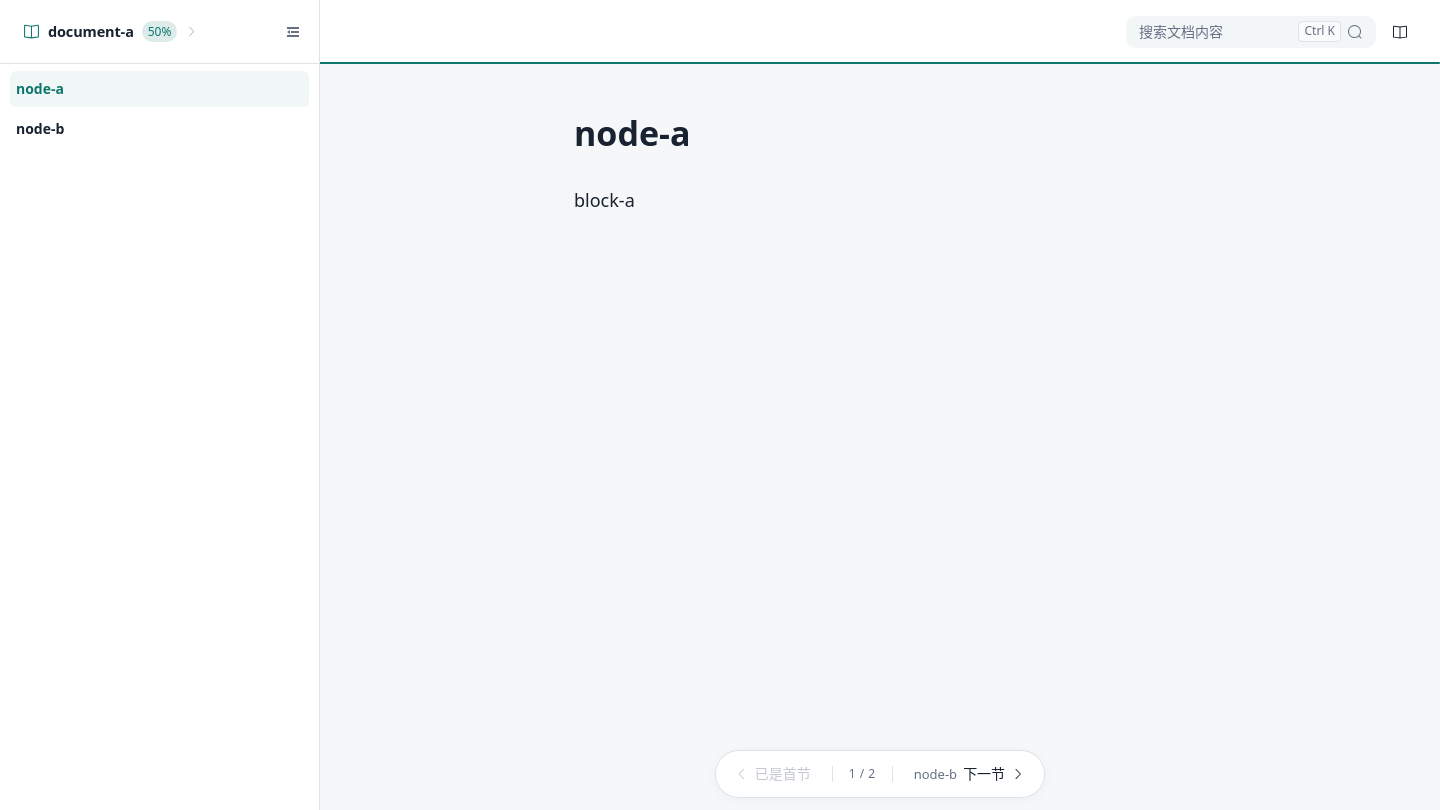
Test: ReaderView request coordination › loads the searched block beyond the first page before positioning the chapter
The image size is (1440, 810).
Step 1. Click the button with class "reader-header-search-trigger" → x=1251, y=32, box [1126,16,1376,48]
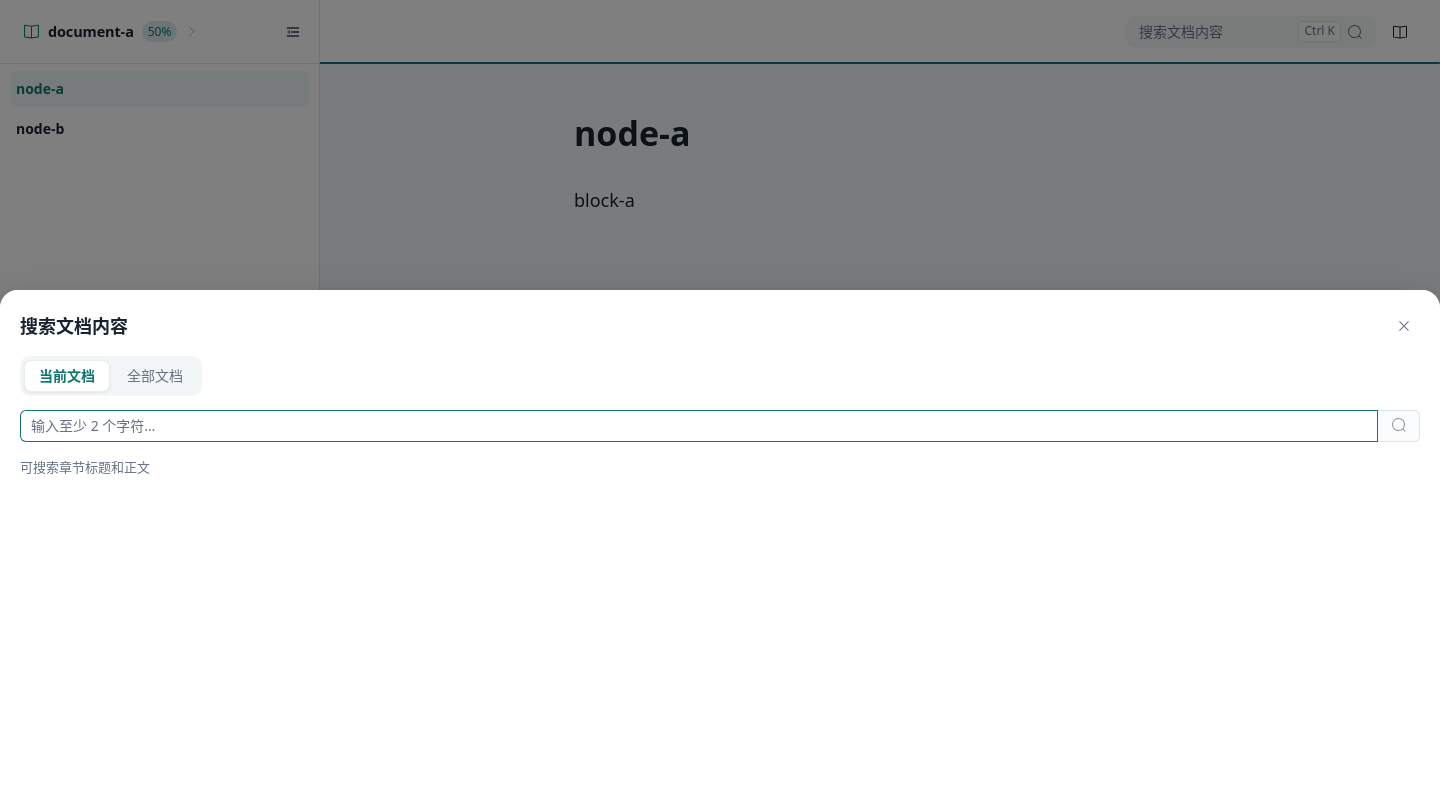
Step 2. Type "单例" into the field named "reader-search" → x=699, y=426, box [31,411,1367,441]
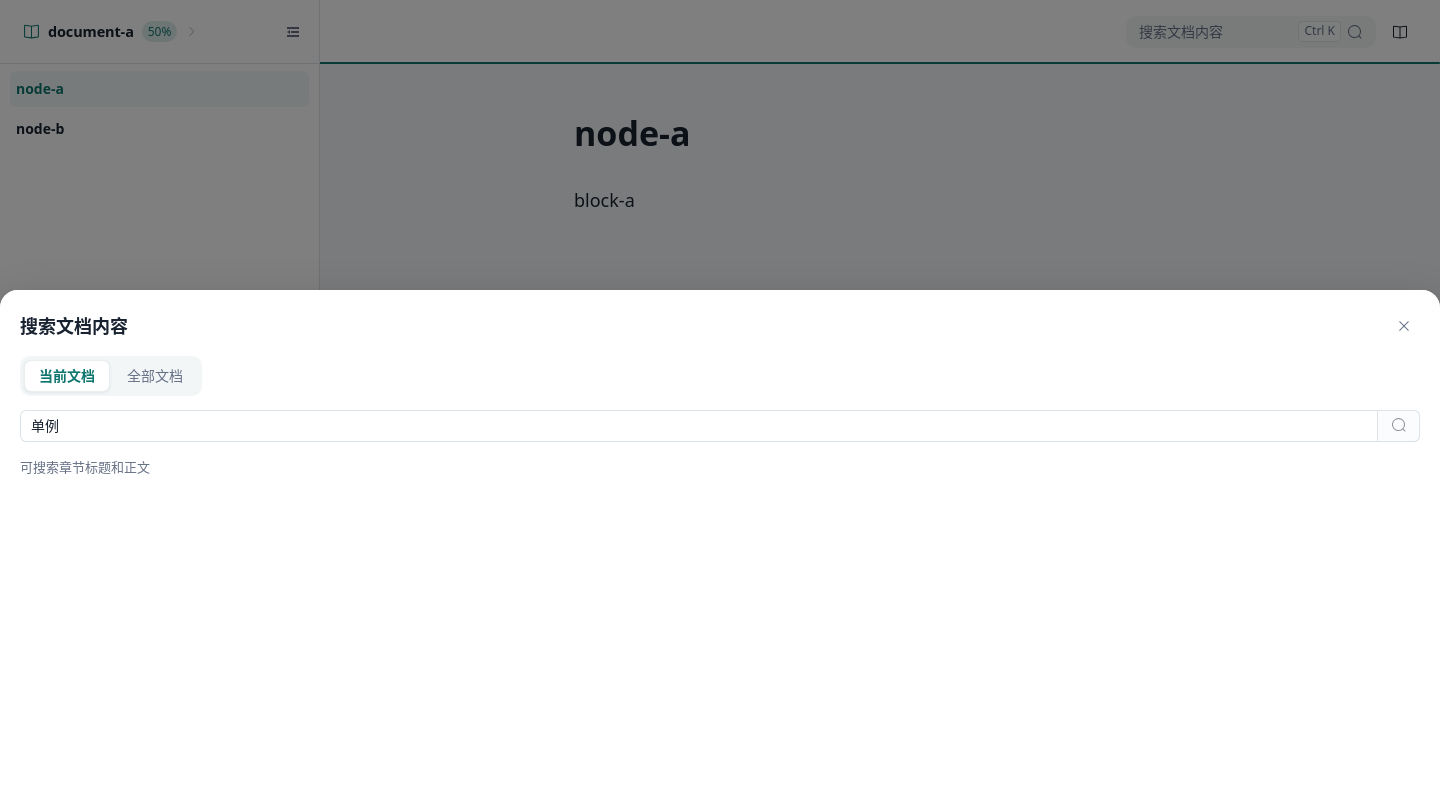
Step 3. Press Enter in the field named "reader-search", box [31,411,1367,441]
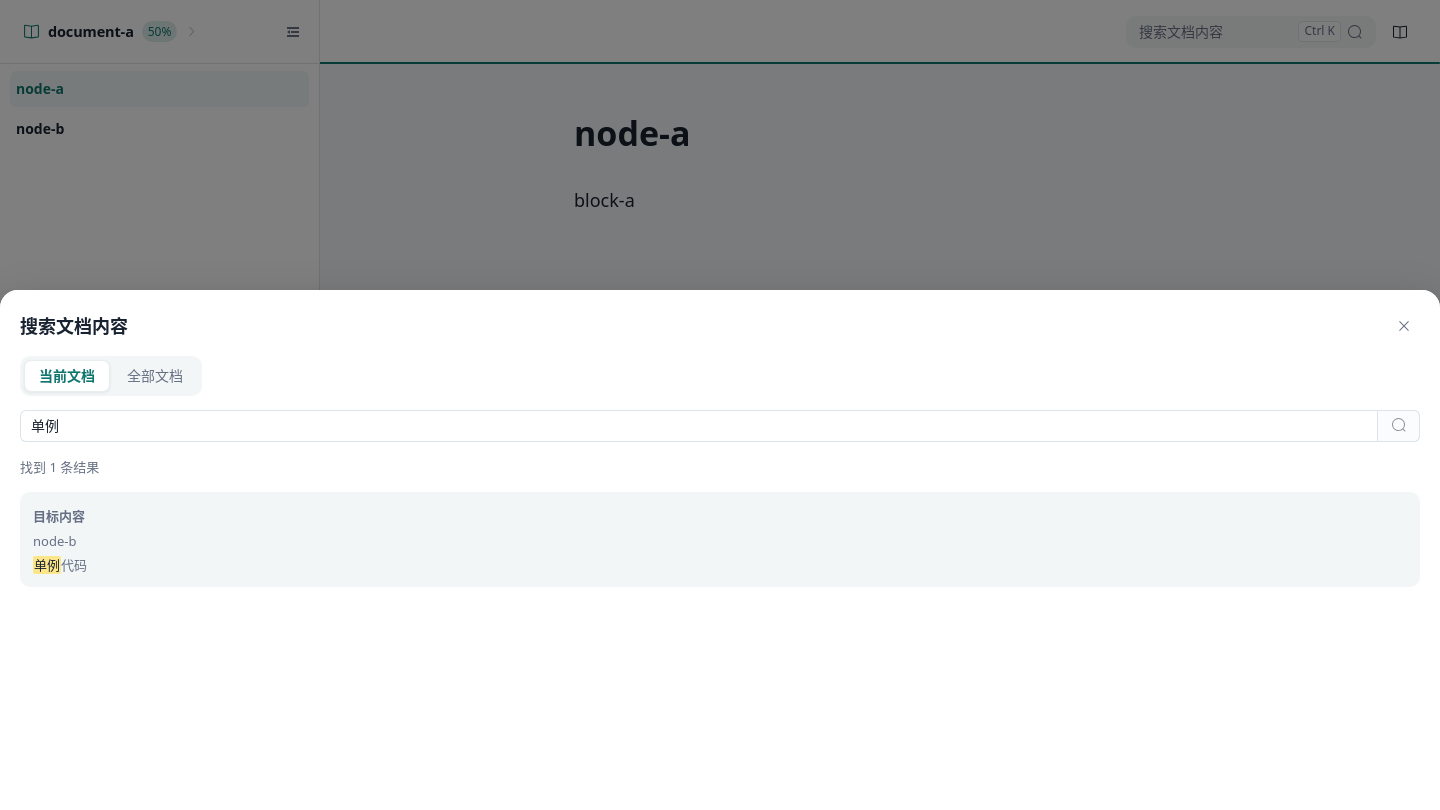
Step 4. Click the button with class "reader-search-hit" → x=59, y=516, box [20,492,1420,587]
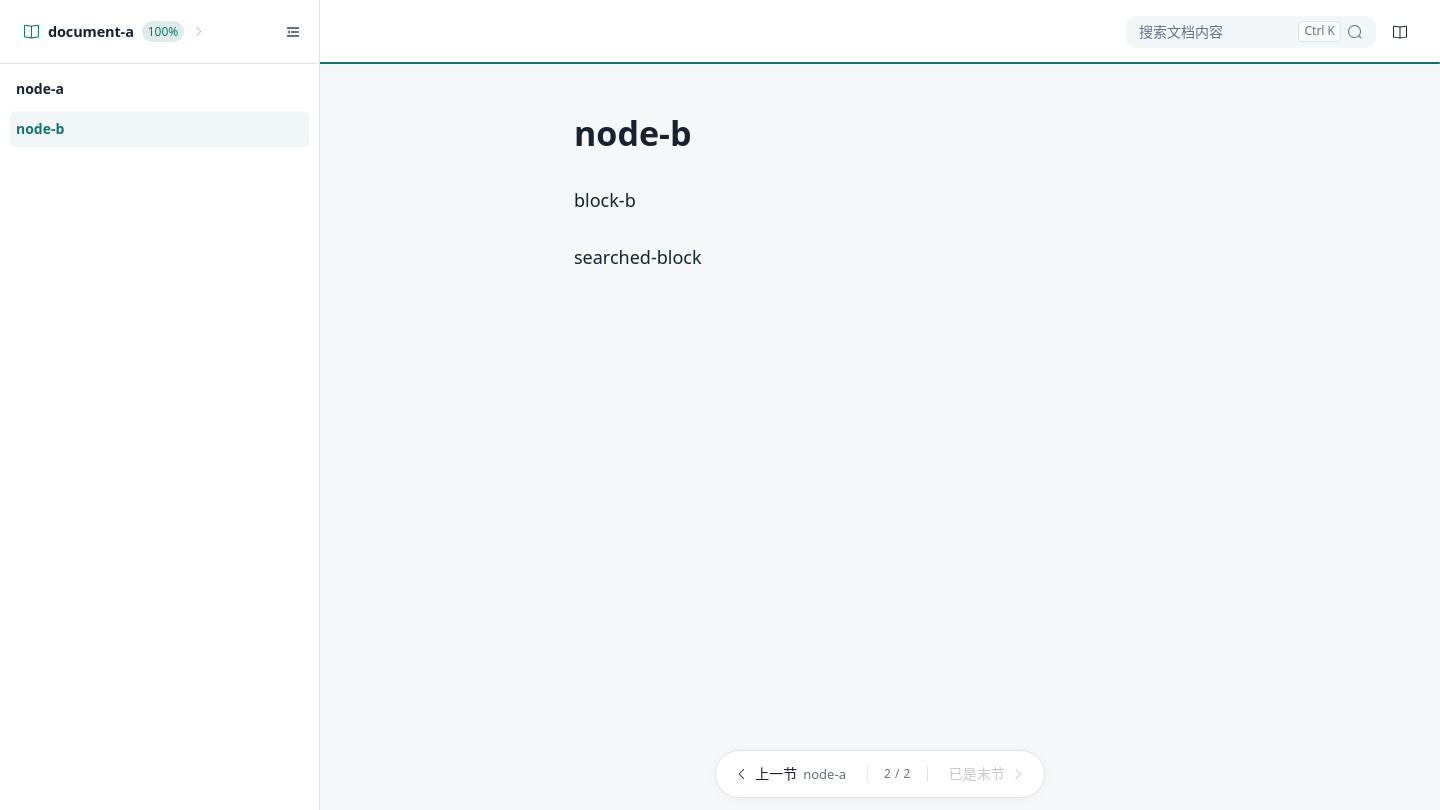
Expected: the element showing "searched-block" is shown, [574,245,702,269]
